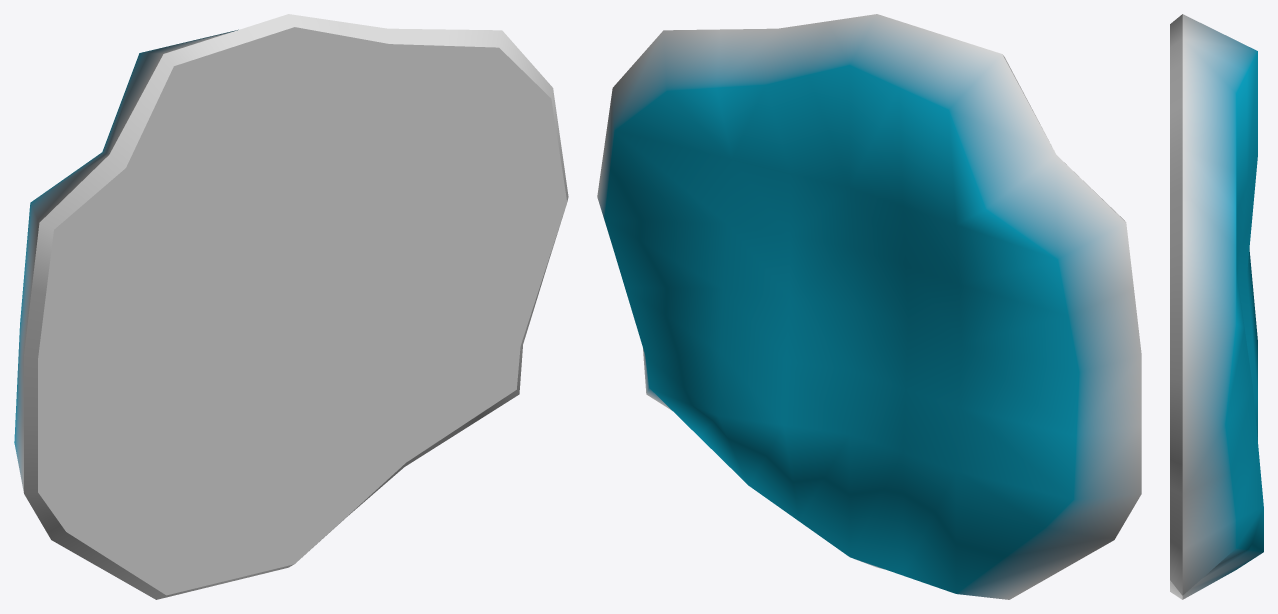
File: Snow_IceSheetA.glb
The picture shows the model from 3 angles, left to right: view 1: azimuth 30°, elevation 25°; view 2: azimuth 150°, elevation 25°; view 3: azimuth 270°, elevation 25°; orthographic projection. The views are drawn at different scales.
Visible parts, largest first — view 1: MeshNode_0; view 2: MeshNode_0; view 3: MeshNode_0.
Part boxes in pixels (x1,y1,x2,y2): MeshNode_0: (14,14,568,599); MeshNode_0: (597,14,1141,599); MeshNode_0: (1170,14,1263,599).
Size of the model in its own units: 67.9 by 65.97 by 10.45.
